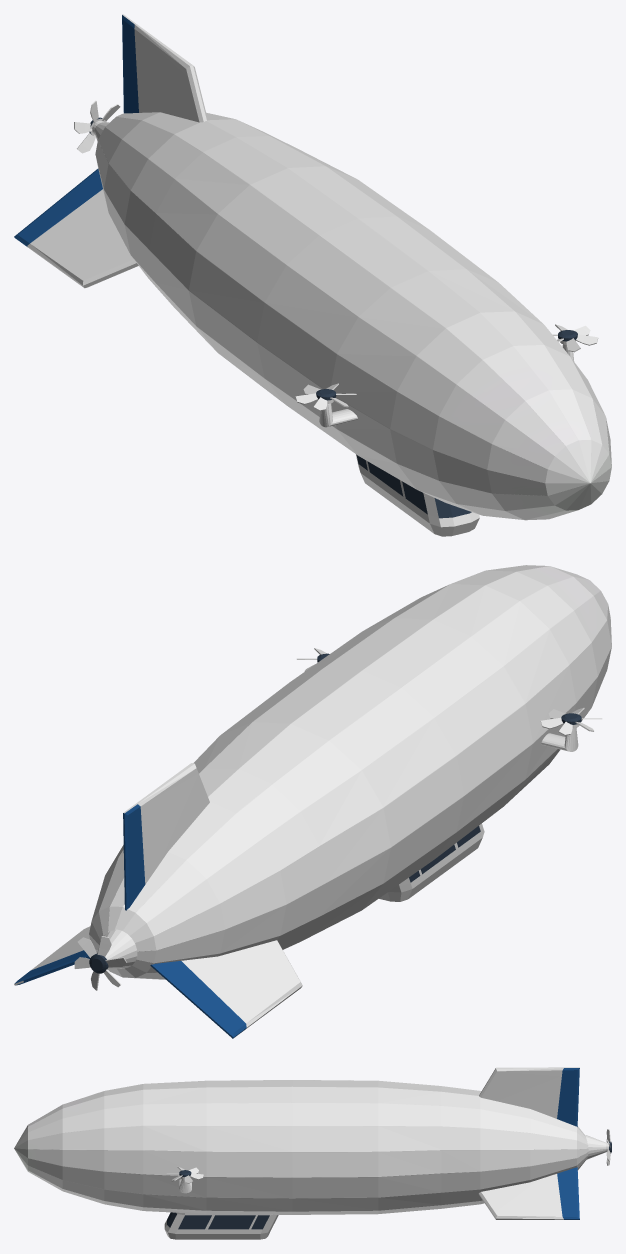
File: Airship by Poly by Google - dRpj4_t2keh-transformed.glb
The picture shows the model from 3 angles, top to bottom: view 1: azimuth 30°, elevation 25°; view 2: azimuth 150°, elevation 25°; view 3: azimuth 270°, elevation 25°; orthographic projection. The views are drawn at different scales.
Parts seen in each view (by area): view 1: Airship; view 2: Airship; view 3: Airship.
Part boxes in pixels (bbox=[...]): Airship: bbox=[14, 14, 611, 536]; Airship: bbox=[14, 565, 611, 1038]; Airship: bbox=[14, 1067, 611, 1239].
Bounding box in the file's own units: 61.03 × 55.13 × 177.
Materials: 1 (1 with a texture image).
